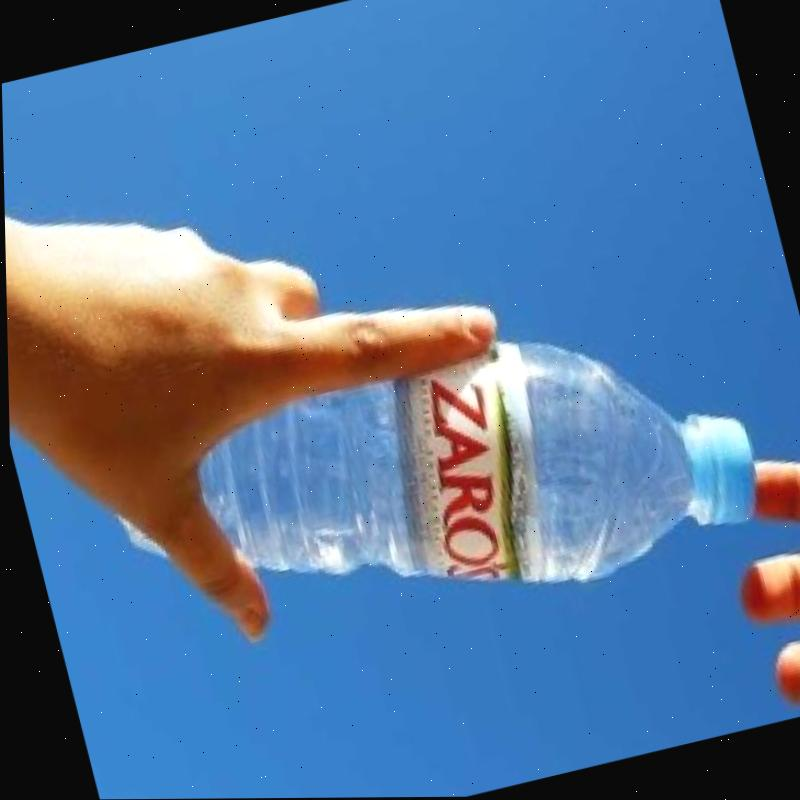botella: (91, 287, 779, 690)
